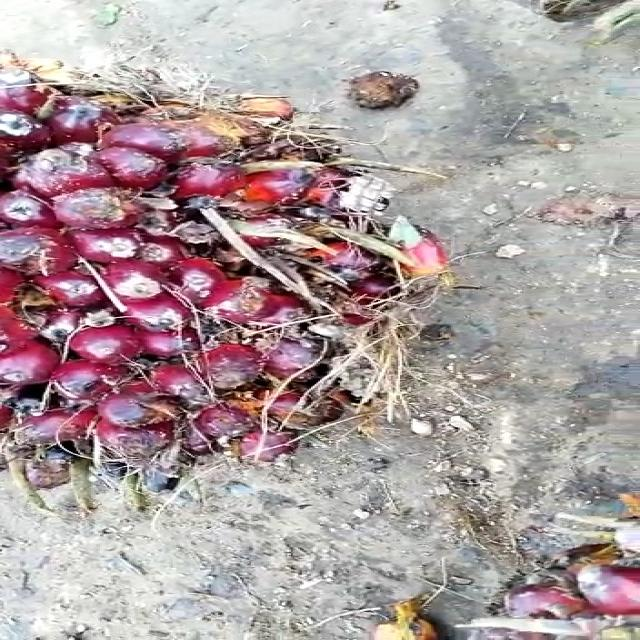palm oil: (0, 53, 458, 509)
